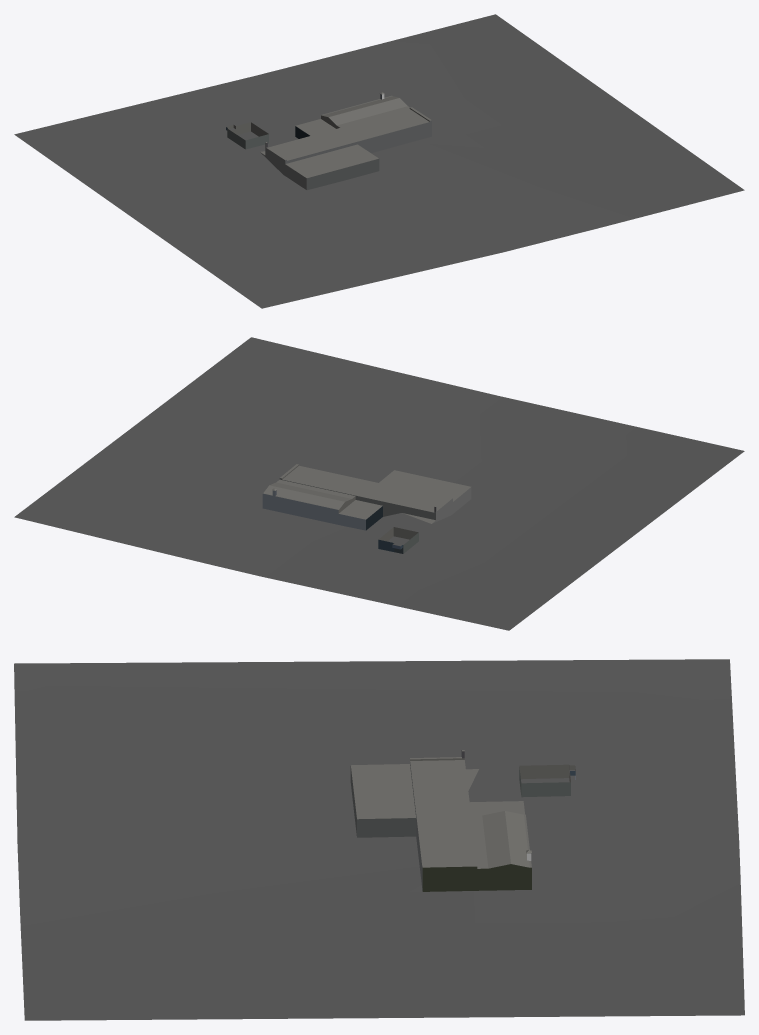
Rendered from 500-broad-street.glb.
3 renders of one model, top to bottom at view 1: azimuth 30°, elevation 25°; view 2: azimuth 150°, elevation 25°; view 3: azimuth 270°, elevation 25°, orthographic. The views are drawn at different scales.
Visible parts, largest first — view 1: LOD0; view 2: LOD0; view 3: LOD0.
Part boxes in pixels (x1=…): LOD0: x1=14, y1=14, x2=744, y2=308; LOD0: x1=14, y1=337, x2=744, y2=630; LOD0: x1=14, y1=659, x2=744, y2=1020.
Size of what is drawn, in the model's own units: 229 by 9.59 by 198.
2 materials, 2 textured.
